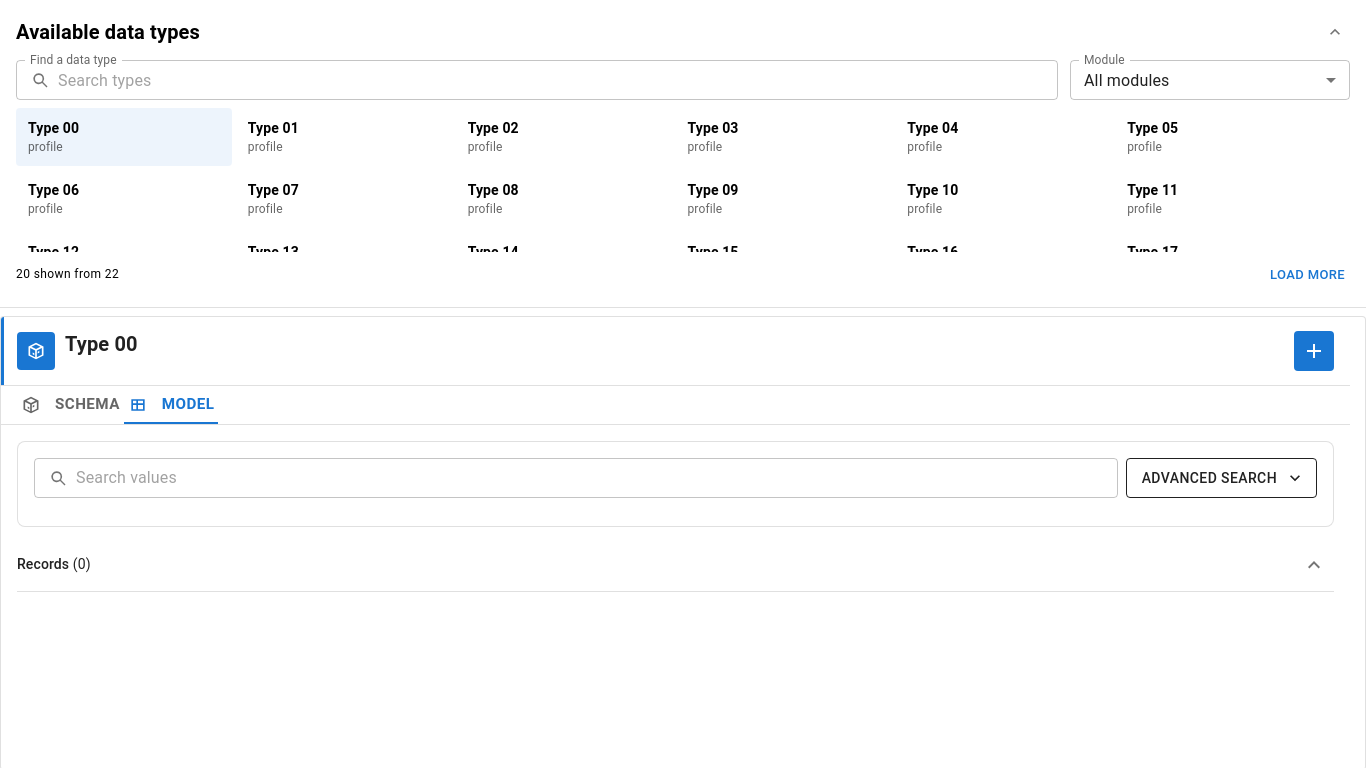
Test: SchemaWorkbenchRenderer › loads long schema browser lists incrementally
expect the text "20 shown from 22" is shown: met, box [16, 265, 119, 285]
expect the button "Type 21 profile" is not shown: met
What coordinates should you click on to do the following:
click the button "Load more"
I would click on:
 (1308, 275)
Its box is [1265, 260, 1350, 291].
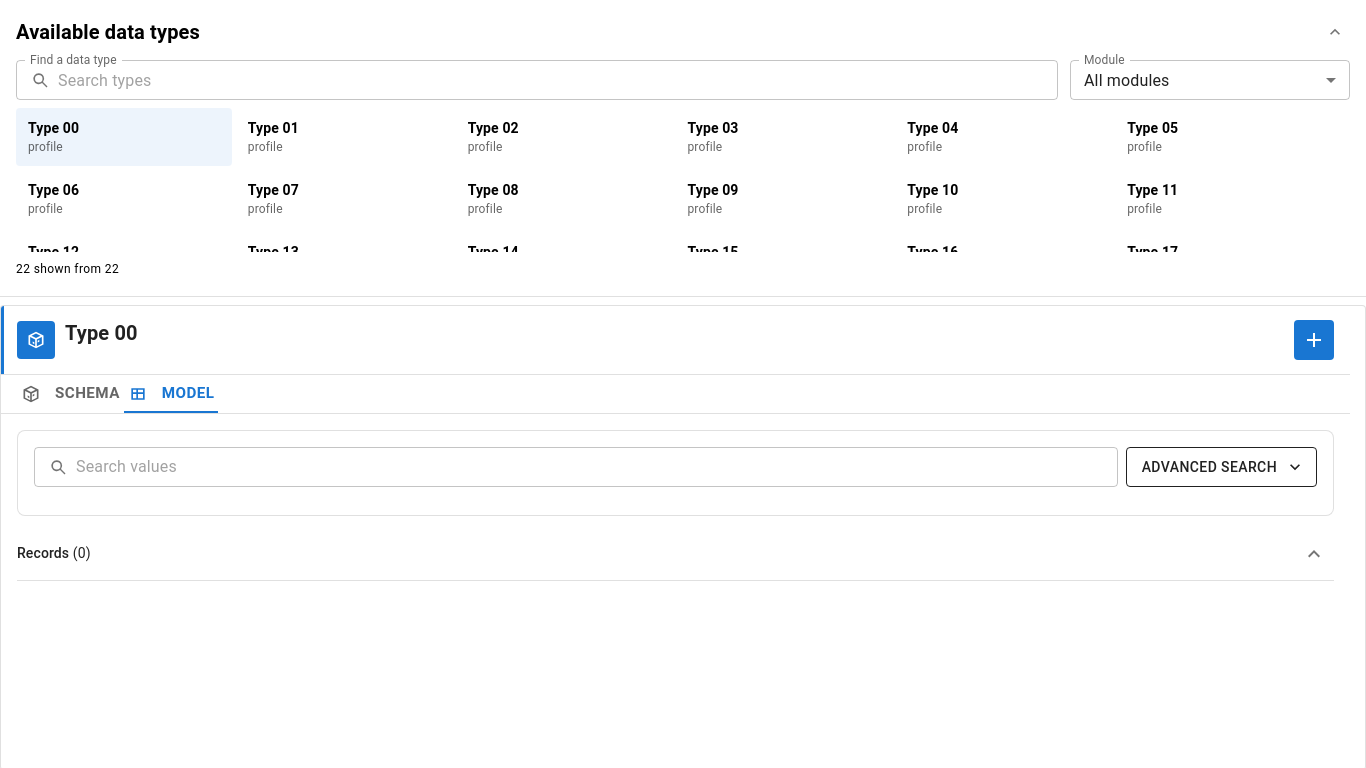
expect the text "22 shown from 22" is shown: met, box [16, 260, 119, 280]
